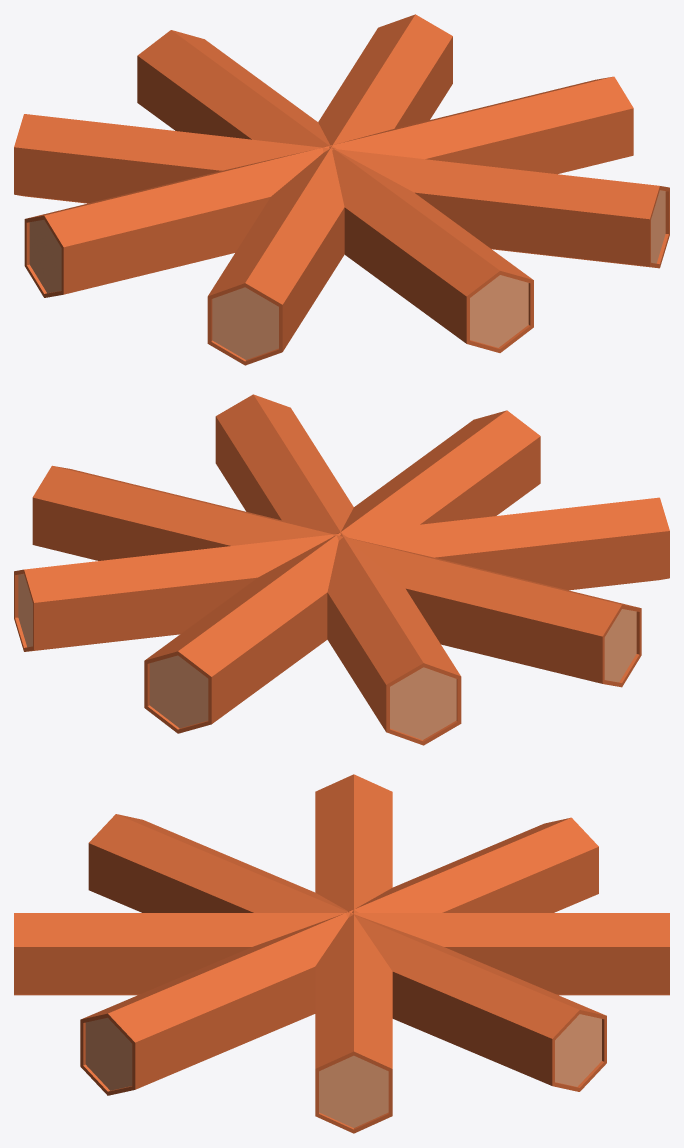
File: VR25_bonfire.fbx
3 views of the same model, one above another, from view 1: azimuth 30°, elevation 25°; view 2: azimuth 150°, elevation 25°; view 3: azimuth 270°, elevation 25° (orthographic).
Parts seen in each view (by area): view 1: Cube, Cube.002, Cube.001, Cube.003; view 2: Cube.003, Cube, Cube.001, Cube.002; view 3: Cube.001, Cube.002, Cube.003, Cube.
Boxes of the visible parts, <box> form: Cube: <box>24,76,633,297</box>; Cube.002: <box>14,114,669,268</box>; Cube.001: <box>137,30,533,352</box>; Cube.003: <box>207,14,452,365</box>; Cube.003: <box>14,497,669,651</box>; Cube: <box>32,465,641,687</box>; Cube.001: <box>144,410,540,733</box>; Cube.002: <box>215,394,461,745</box>; Cube.001: <box>14,913,669,995</box>; Cube.002: <box>80,817,598,1095</box>; Cube.003: <box>88,814,606,1091</box>; Cube: <box>315,774,392,1133</box>.
Bounding box in the file's own units: 1696 × 235 × 1696.
